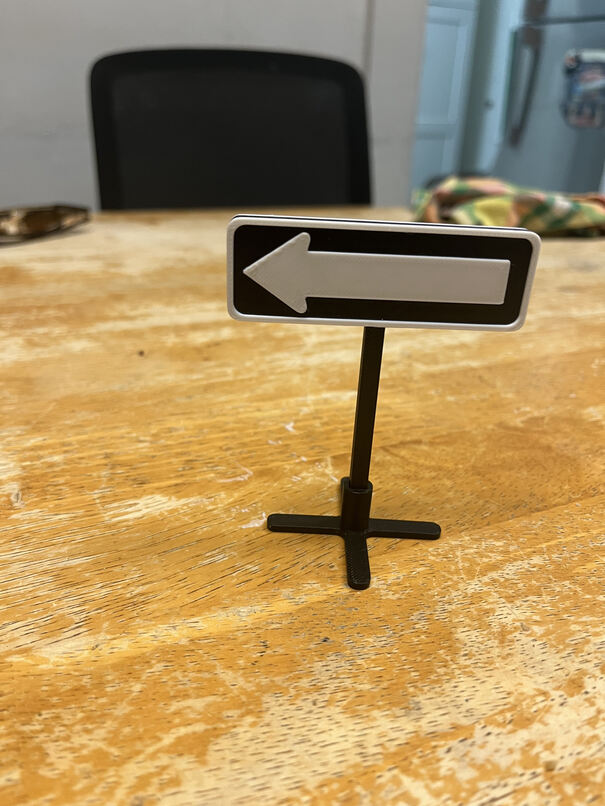sign_oneway_left: (216, 212, 534, 338)
